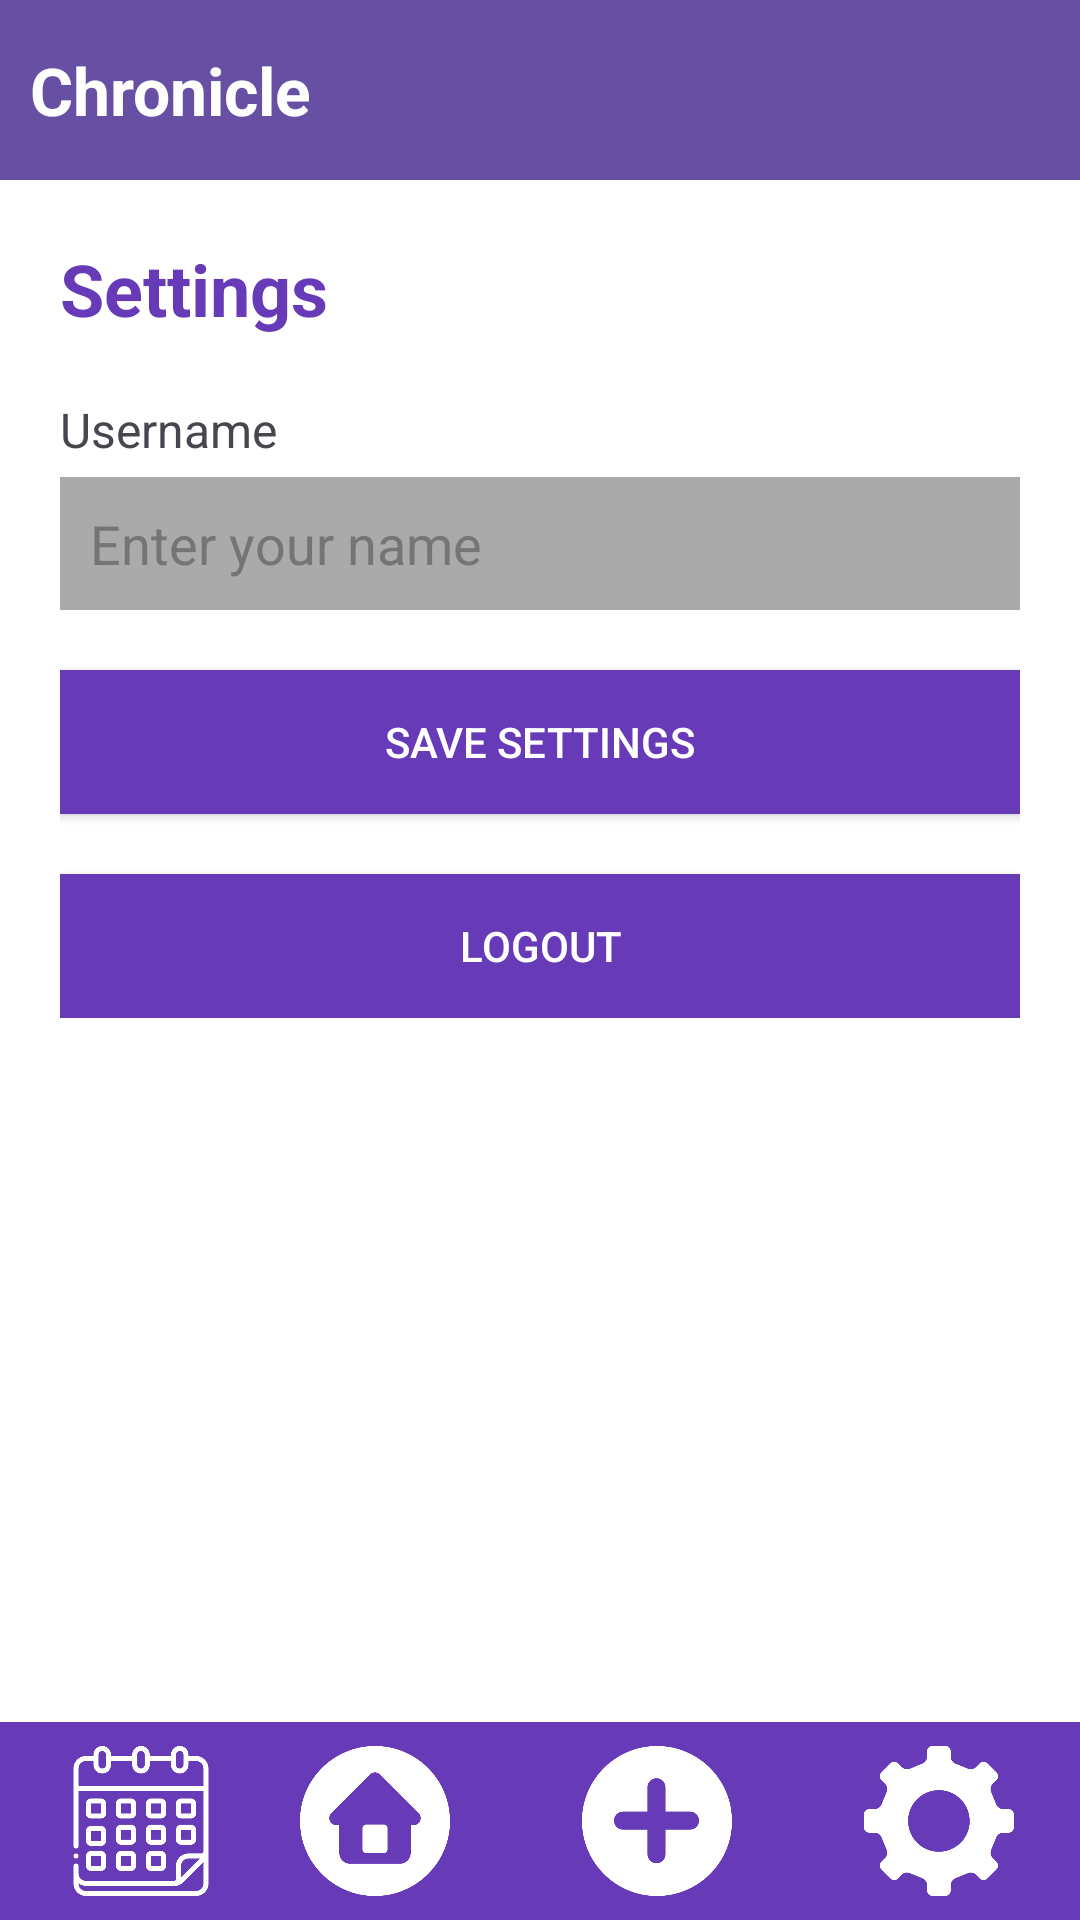

Named icons in this screenshot (1080 x 1920) and their centers, (x,y):
Calendar: (141,1821)
Create: (657,1821)
Dashboard: (375,1821)
Settings: (939,1821)
